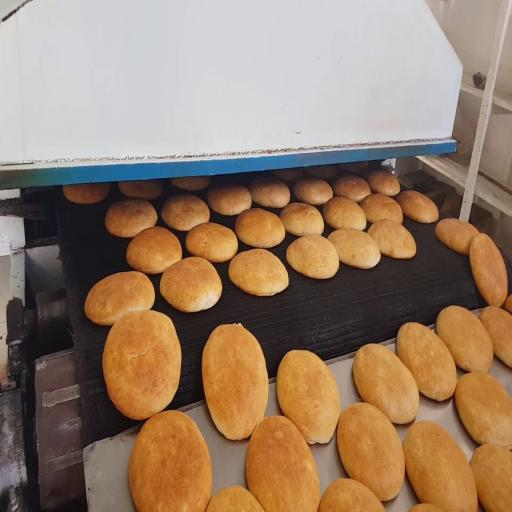bread: (103, 311, 181, 420), (128, 411, 212, 511), (202, 324, 268, 440), (246, 416, 320, 511), (404, 421, 477, 511), (337, 403, 404, 501), (276, 350, 340, 444), (353, 344, 419, 424), (397, 323, 457, 401), (455, 372, 511, 449), (436, 306, 493, 371), (85, 272, 154, 325), (160, 257, 222, 312), (229, 249, 288, 296), (471, 444, 511, 511), (470, 234, 507, 306), (127, 227, 182, 274), (286, 235, 339, 279), (319, 479, 384, 511), (186, 223, 238, 262), (328, 229, 380, 268), (105, 199, 157, 237), (235, 209, 285, 248), (368, 219, 416, 259), (479, 307, 511, 367), (161, 194, 210, 231), (435, 219, 478, 255), (280, 203, 324, 236), (323, 197, 366, 230), (207, 486, 263, 511), (207, 184, 251, 215), (249, 175, 290, 208), (397, 191, 438, 223), (361, 194, 402, 223), (62, 182, 110, 204), (294, 178, 333, 205), (334, 174, 371, 202), (118, 180, 163, 200), (367, 169, 400, 196), (172, 176, 210, 191), (306, 165, 337, 179), (273, 168, 303, 181), (339, 161, 367, 173), (409, 504, 442, 511), (504, 295, 511, 313)
